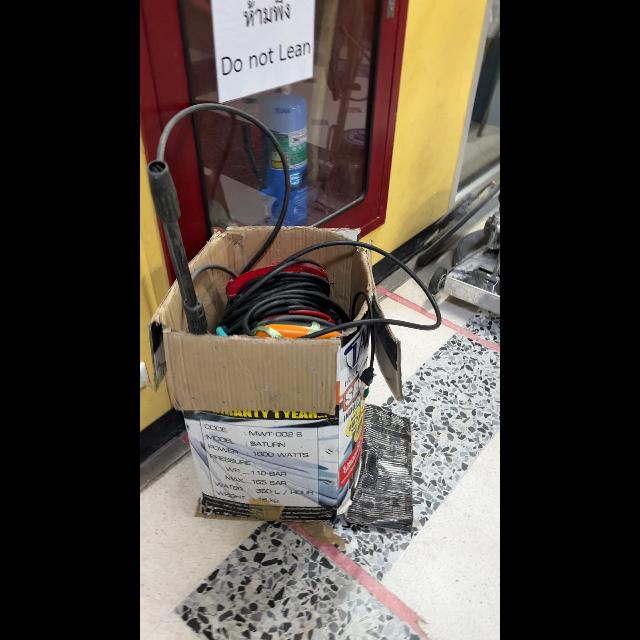cardboard_box: (149, 212, 407, 516)
